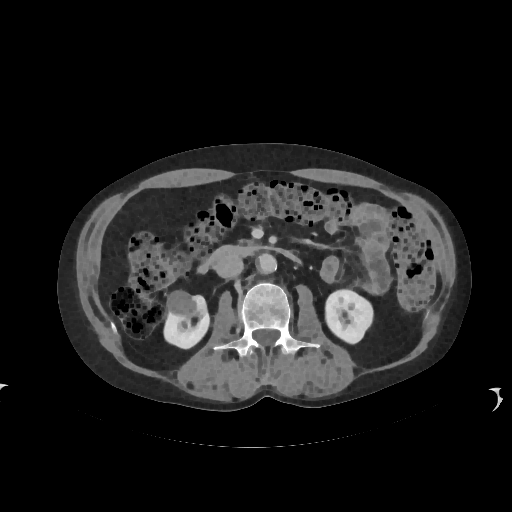Lesion: (161, 287, 202, 325)
